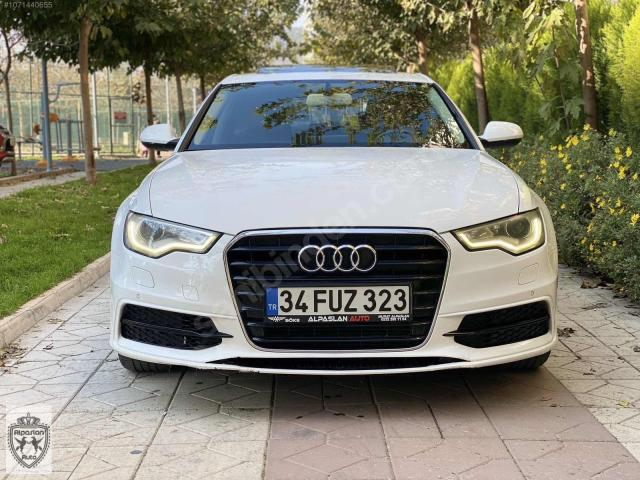plaka: (263, 282, 416, 323)
